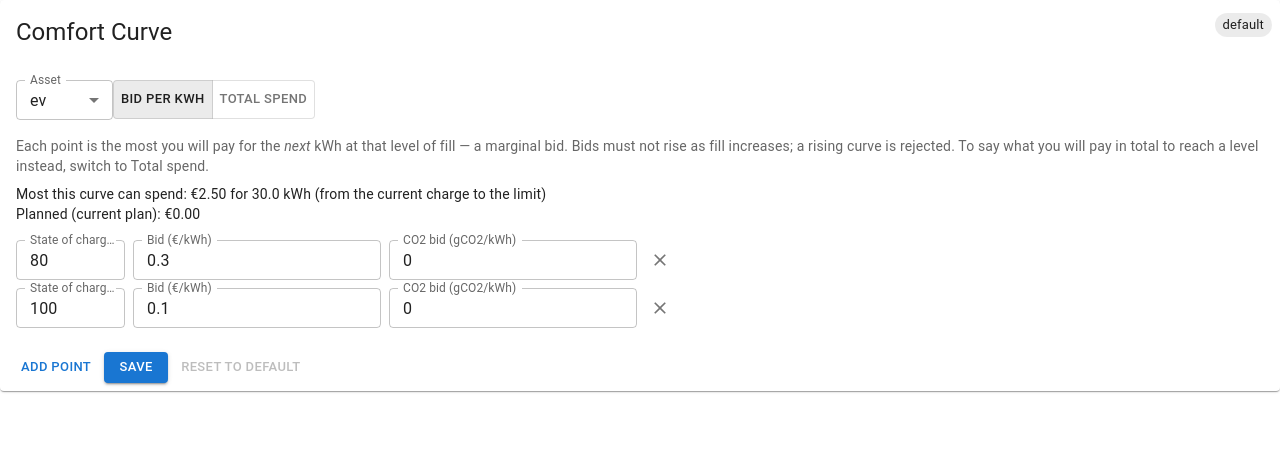
Test: ComfortCurveCard › shows the reason the spend route gave
Click the button with test id "comfort-mode-spend".
click(263, 99)  # box [212,80,315,119]
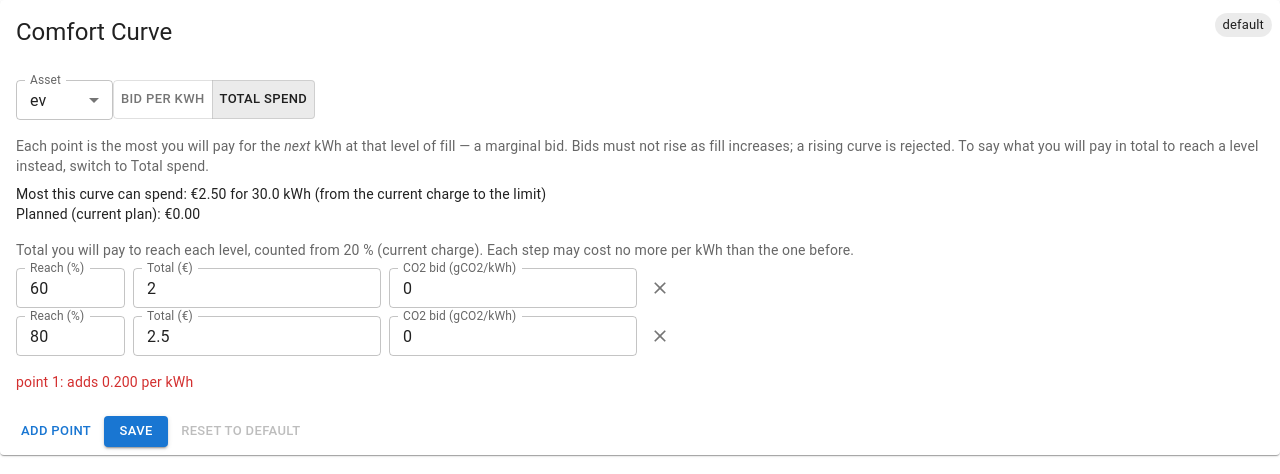
expect the text with test id "comfort-save-error" reads "point 1: adds 0.200 per kWh": met, box [16,374,193,390]
